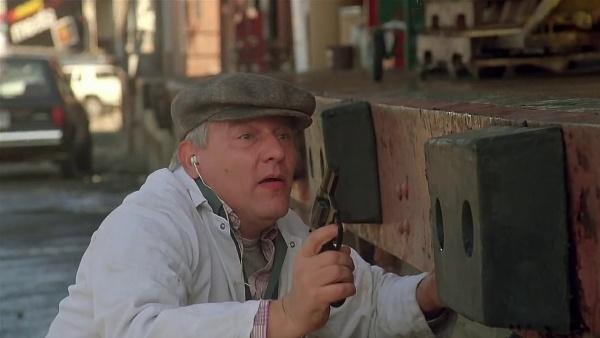Gun: (308, 162, 351, 310)
